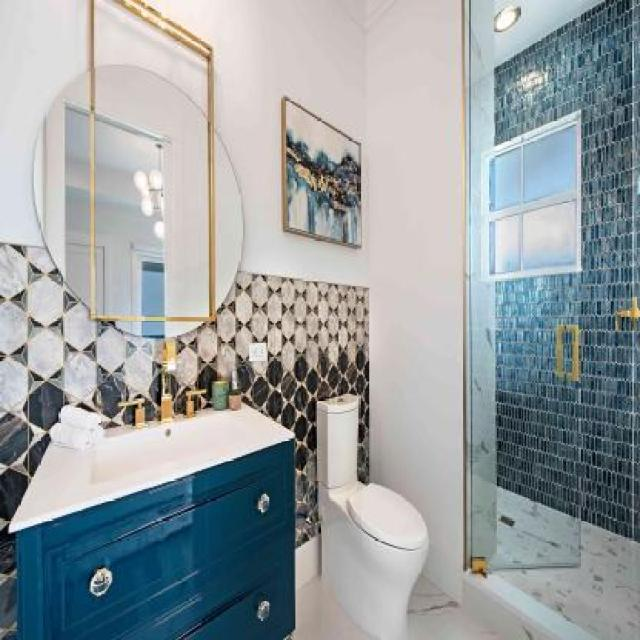floor: (291, 575, 527, 640)
